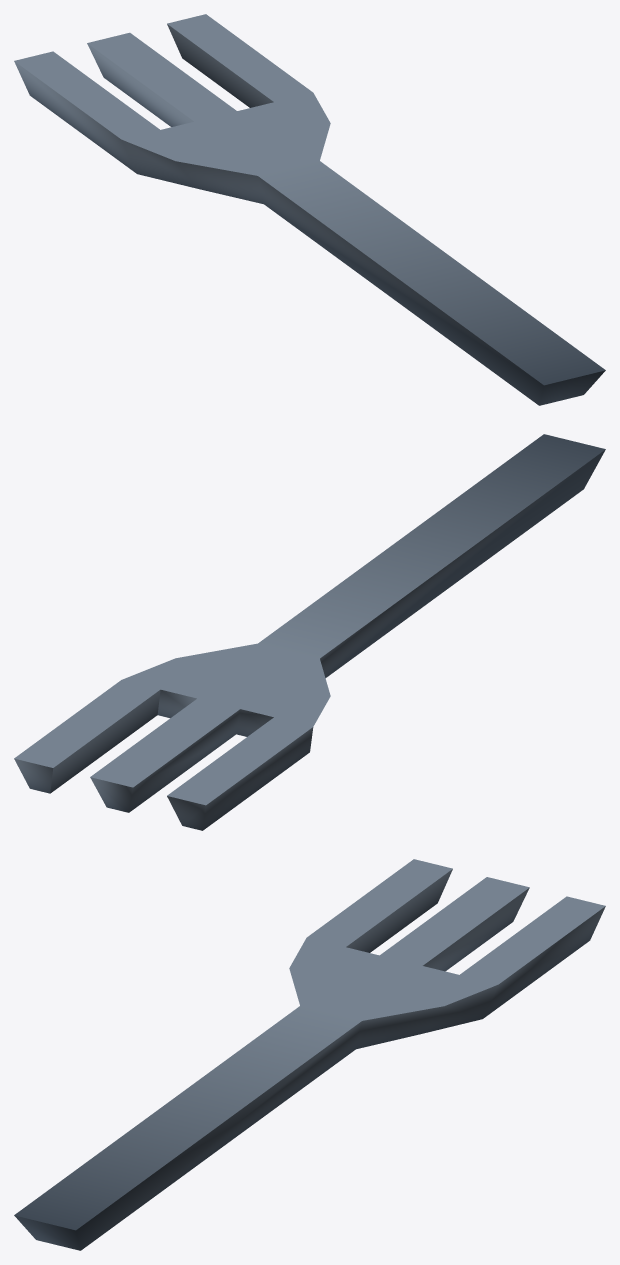
The model's file is H&J_Cuchara.fbx.
The picture shows the model from 3 angles, top to bottom: view 1: azimuth 30°, elevation 25°; view 2: azimuth 150°, elevation 25°; view 3: azimuth 330°, elevation 25°; orthographic projection.
Parts seen in each view (by area): view 1: LAGS_Cuchara; view 2: LAGS_Cuchara; view 3: LAGS_Cuchara.
Part boxes in pixels (<box>): LAGS_Cuchara: <box>14,14,605,405</box>; LAGS_Cuchara: <box>14,434,605,830</box>; LAGS_Cuchara: <box>14,859,605,1250</box>.
Size of the model in its own units: 6.2 by 1 by 26.
